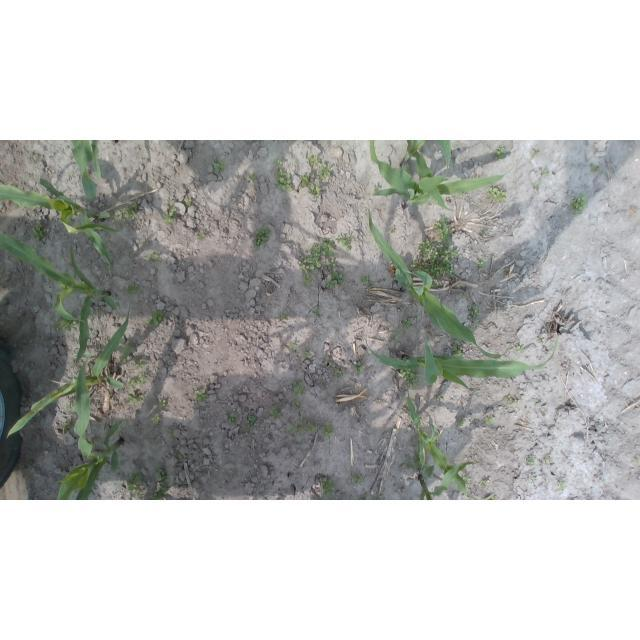Maize: (365, 209, 512, 358), (1, 141, 124, 278), (6, 311, 130, 439), (1, 231, 118, 366), (366, 334, 561, 394), (56, 360, 123, 501), (406, 393, 494, 500), (369, 141, 508, 208), (402, 140, 451, 213), (419, 461, 476, 500), (75, 141, 103, 182)
Weeds: (415, 240, 459, 289), (299, 243, 321, 272), (151, 469, 169, 500), (433, 216, 451, 244), (400, 369, 420, 390), (276, 168, 293, 192), (113, 204, 136, 221), (126, 469, 143, 492), (253, 228, 271, 249), (570, 193, 587, 215), (488, 186, 508, 204), (467, 303, 481, 327), (53, 317, 77, 331), (146, 310, 164, 327), (328, 272, 344, 291), (164, 203, 177, 224), (338, 233, 353, 251), (32, 220, 44, 241), (323, 477, 336, 496), (322, 239, 337, 255), (317, 163, 331, 180), (293, 380, 306, 397), (322, 424, 335, 440), (128, 392, 144, 405), (147, 251, 161, 265), (86, 436, 98, 452), (309, 183, 320, 200), (360, 275, 373, 289), (194, 389, 207, 403), (299, 172, 310, 188), (452, 343, 464, 357), (348, 474, 364, 484), (244, 416, 256, 429), (213, 159, 224, 173), (303, 423, 317, 434), (496, 147, 507, 161), (61, 420, 72, 433), (331, 369, 344, 380), (267, 410, 281, 420), (304, 274, 313, 289), (309, 154, 320, 166), (476, 257, 488, 267), (356, 362, 365, 375), (228, 412, 236, 426), (287, 424, 297, 435), (126, 283, 136, 294), (461, 476, 471, 487), (390, 331, 399, 343), (159, 398, 168, 410), (400, 462, 413, 470), (530, 149, 540, 159), (402, 319, 412, 329), (325, 260, 336, 269), (292, 401, 301, 412), (304, 348, 311, 361), (526, 456, 536, 465), (126, 380, 136, 389), (590, 164, 600, 173), (133, 361, 144, 369), (539, 169, 550, 177), (136, 375, 145, 384), (248, 173, 256, 183), (279, 312, 289, 320), (413, 459, 420, 470), (559, 482, 567, 491), (152, 416, 161, 424), (534, 180, 542, 189), (458, 291, 469, 297), (196, 232, 204, 240), (505, 395, 513, 403), (486, 417, 494, 425), (185, 199, 192, 207), (481, 229, 489, 236), (480, 480, 488, 487), (275, 160, 284, 166), (313, 308, 319, 317), (410, 262, 417, 269), (633, 459, 640, 466), (290, 343, 297, 350), (458, 420, 465, 427), (408, 439, 416, 445), (516, 346, 524, 352), (537, 336, 543, 344), (119, 342, 126, 348), (177, 454, 184, 460), (28, 151, 33, 159), (436, 398, 444, 403), (389, 228, 395, 234), (374, 185, 379, 192), (545, 455, 550, 462), (126, 356, 131, 360), (328, 359, 332, 364), (491, 497, 495, 500), (336, 328, 339, 332)
